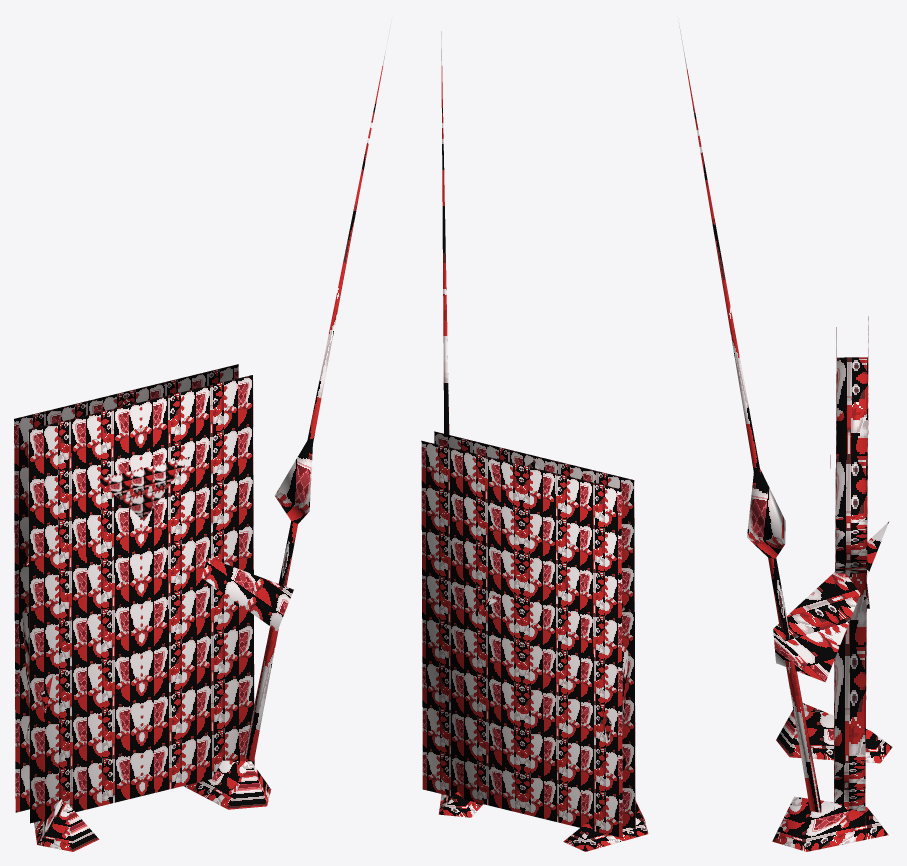
Rendered from 3443IMSY01_05.gltf.
3 renders of one model, left to right at view 1: azimuth 30°, elevation 25°; view 2: azimuth 150°, elevation 25°; view 3: azimuth 270°, elevation 25°, orthographic. The views are drawn at different scales.
Parts seen in each view (by area): view 1: 3443IMSY01_05; view 2: 3443IMSY01_05; view 3: 3443IMSY01_05.
Part boxes in pixels (left/top/right/bottom): 3443IMSY01_05: left=14, top=19, right=391, bottom=851; 3443IMSY01_05: left=421, top=31, right=648, bottom=851; 3443IMSY01_05: left=679, top=23, right=892, bottom=851.
Size of the model in its own units: 0.9539 by 2.49 by 0.5576.
1 material, 1 textured.
